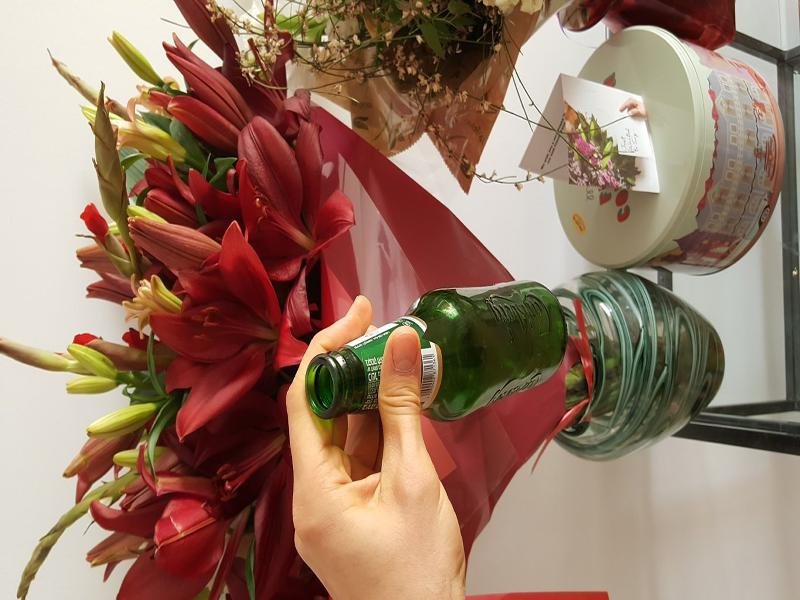Beer: (307, 279, 566, 421)
